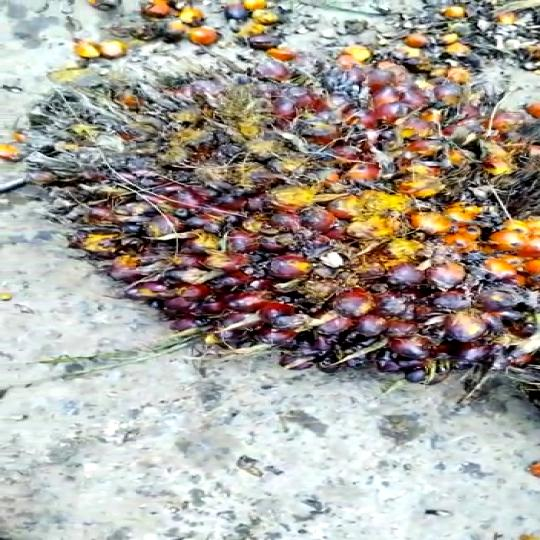masak: (7, 49, 540, 390)
